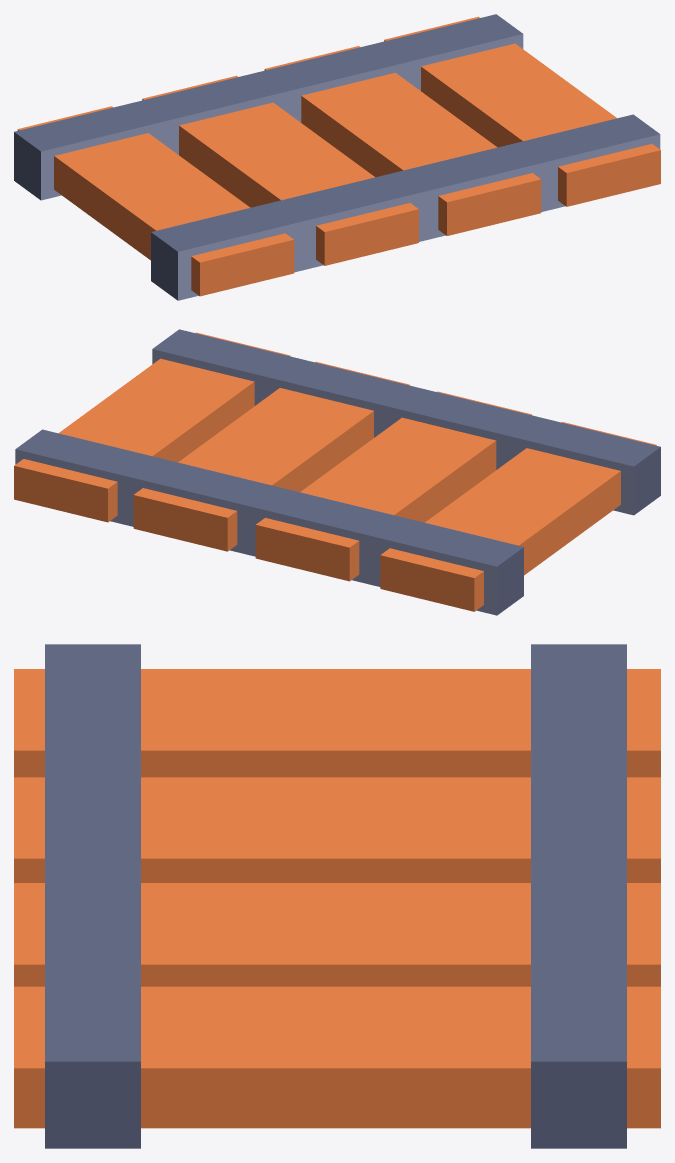
Rendered from Rail002.fbx.
3 renders of one model, top to bottom at view 1: azimuth 30°, elevation 25°; view 2: azimuth 150°, elevation 25°; view 3: azimuth 270°, elevation 25°, orthographic. The views are drawn at different scales.
Parts seen in each view (by area): view 1: Rail002; view 2: Rail002; view 3: Rail002.
Boxes of the visible parts, <box> form: Rail002: <box>14,14,660,300</box>; Rail002: <box>14,329,660,615</box>; Rail002: <box>14,644,660,1148</box>.
Size of the model in its own units: 218 by 21.11 by 143.
